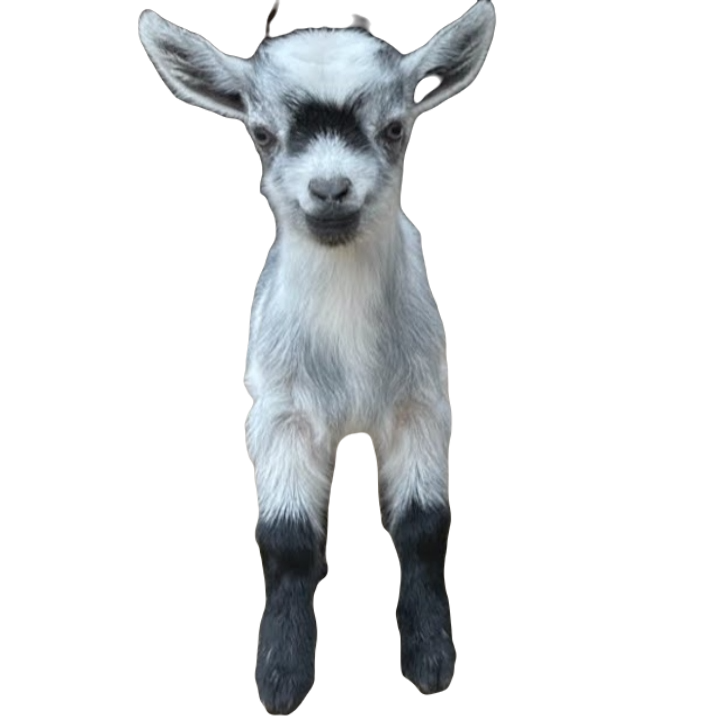Goat: (133, 0, 502, 710)
